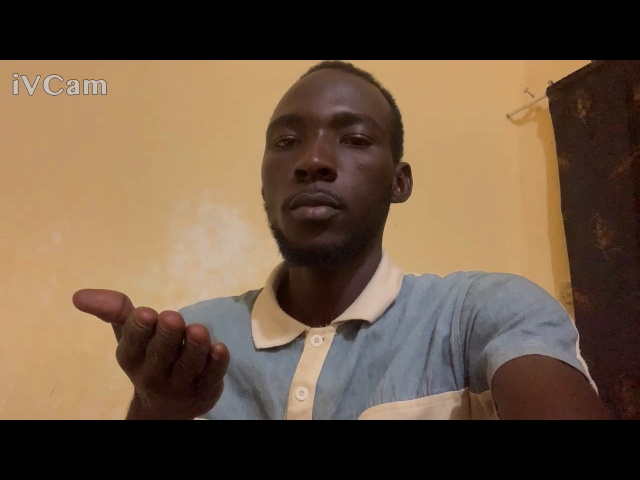merci: (61, 280, 251, 418)
